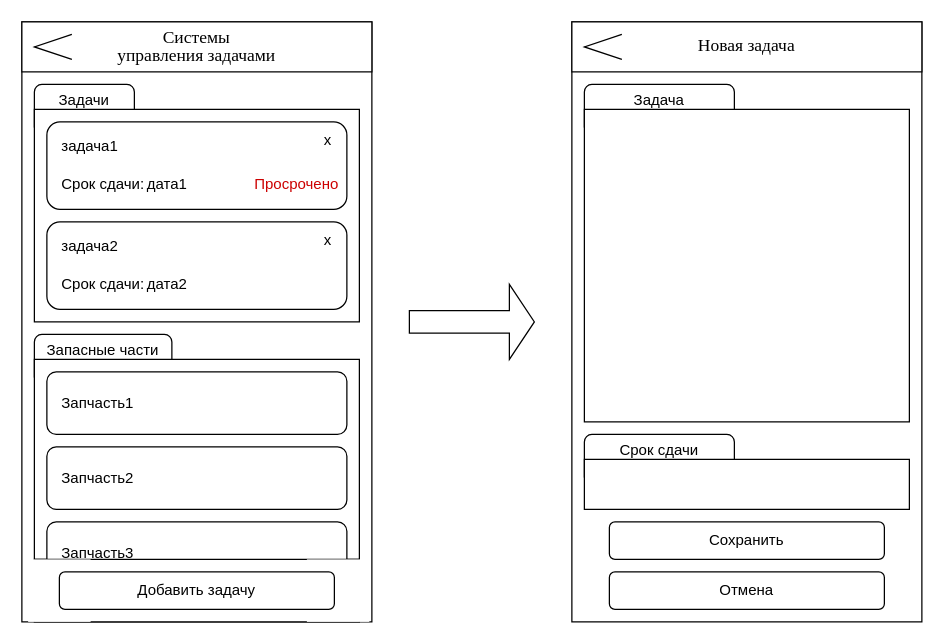
This 944x644 diagram has some shape labels left out. Here are the shapes that lost their labels. From the top down, the centre of each, then its label:
At (x=746, y=265): "Опишите задачу".
At (x=746, y=483): "Запишите дату".
